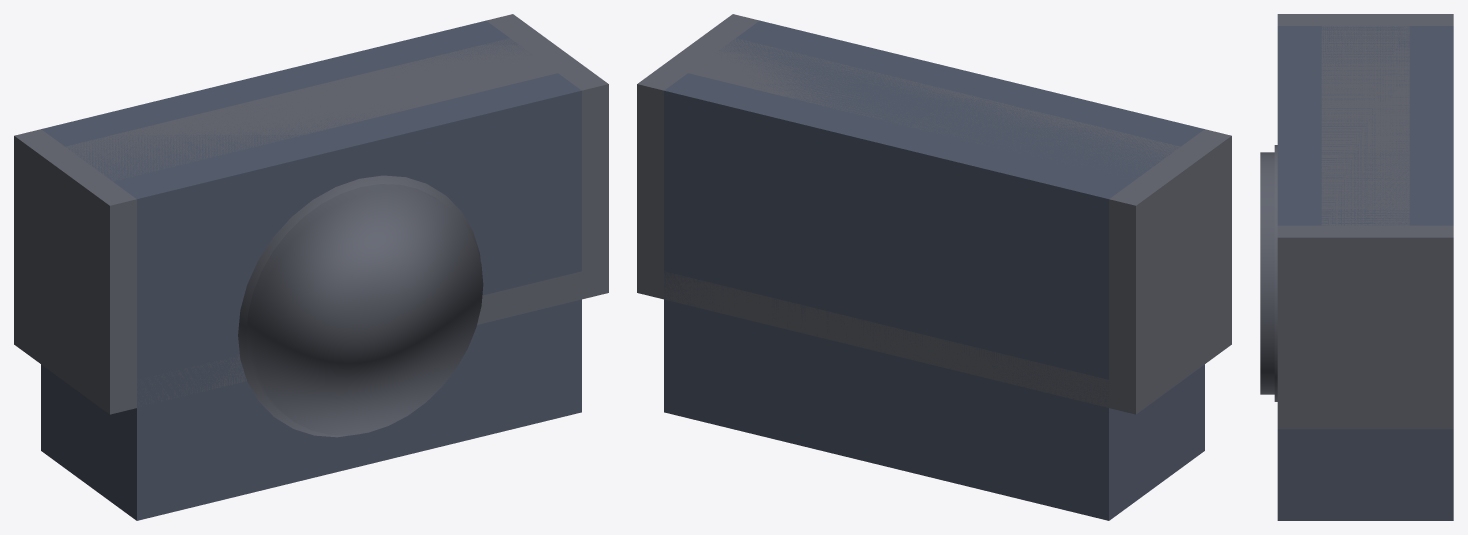
File: nanlite_forza_300b_ii.glb
3 views of the same model, side by side, from view 1: azimuth 30°, elevation 25°; view 2: azimuth 150°, elevation 25°; view 3: azimuth 270°, elevation 25° (orthographic). The views are drawn at different scales.
Visible parts, largest first — view 1: nanlite_forza_300b_ii; view 2: nanlite_forza_300b_ii; view 3: nanlite_forza_300b_ii.
Part boxes in pixels (x1,y1,x2,y2): nanlite_forza_300b_ii: [14, 14, 608, 520]; nanlite_forza_300b_ii: [637, 14, 1231, 520]; nanlite_forza_300b_ii: [1260, 14, 1453, 520].
Size of the model in its own units: 0.37 by 0.248 by 0.135.
